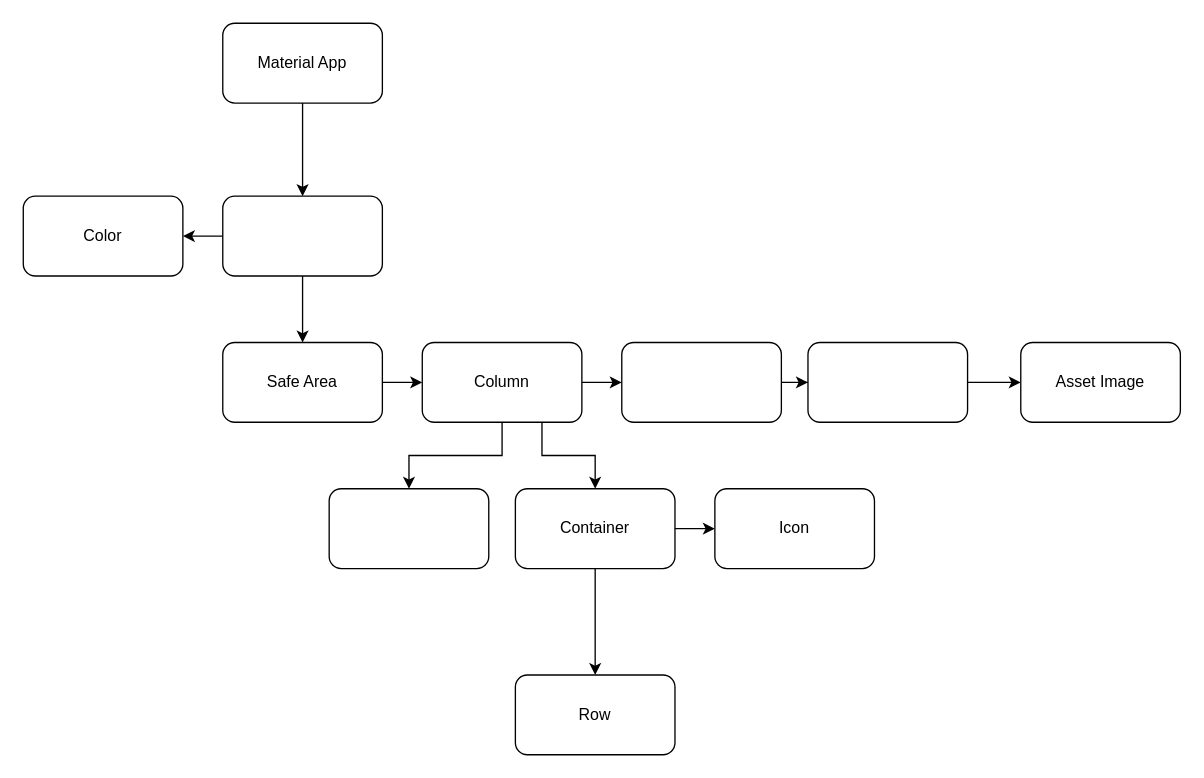
The diagram is 1204 pixels wide and 778 high, and some of its shapes have lost their labels. The centre of each missing label's shape, as x and y in pixels:
"Circle Avatar" belongs at (x=700, y=381).
"Radius" belongs at (x=887, y=381).
"Scaffold" belongs at (x=301, y=235).
"Text" belongs at (x=408, y=528).
